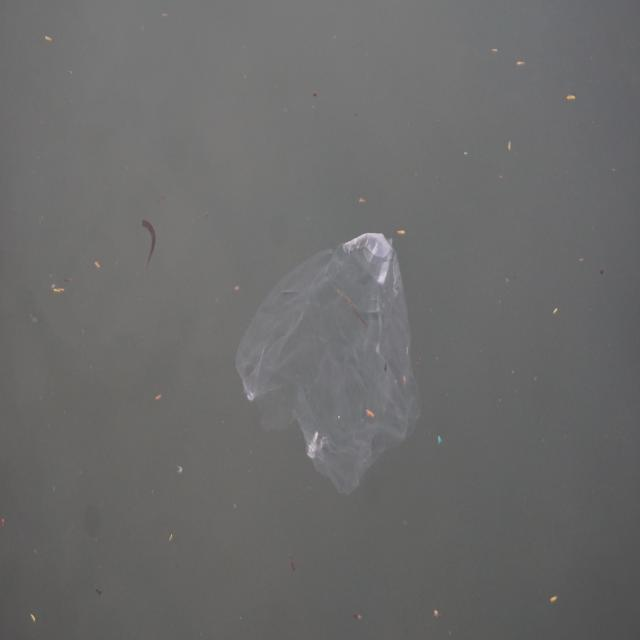Kantong Plastik: (236, 228, 424, 495)
